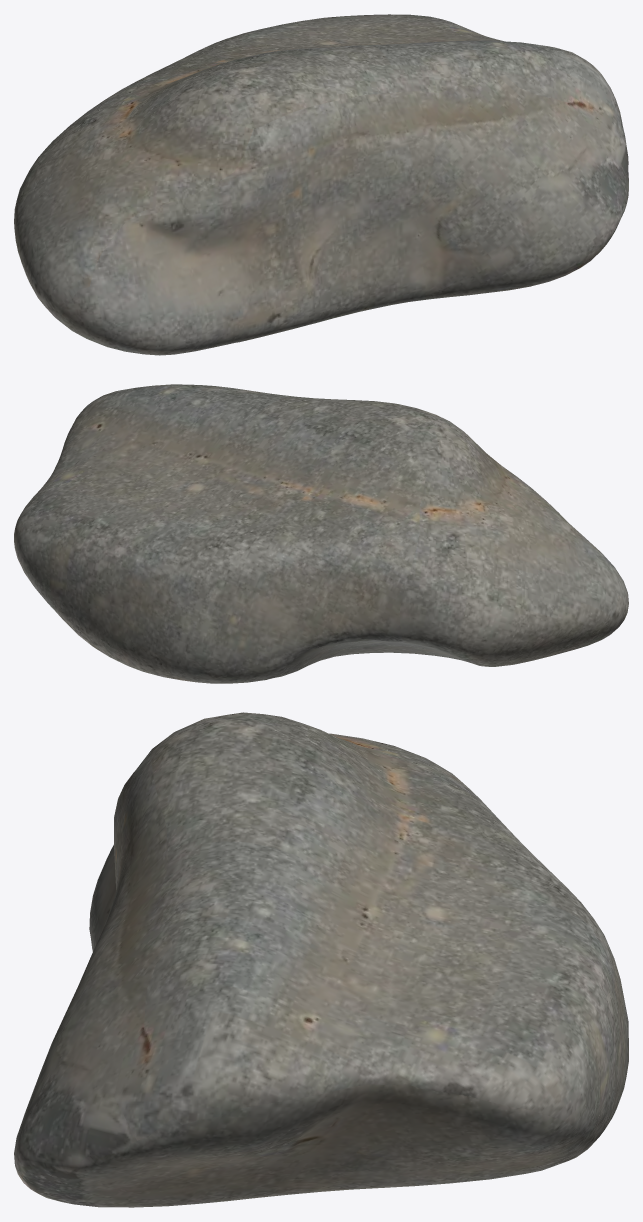
The picture shows the model from 3 angles, top to bottom: view 1: azimuth 30°, elevation 25°; view 2: azimuth 150°, elevation 25°; view 3: azimuth 270°, elevation 25°; orthographic projection. The views are drawn at different scales.
Parts seen in each view (by area): view 1: SM_Stone_01_LOD0; view 2: SM_Stone_01_LOD0; view 3: SM_Stone_01_LOD0.
Boxes of the visible parts, x1,y1,x2,y2 form: SM_Stone_01_LOD0: (14, 14, 628, 355); SM_Stone_01_LOD0: (14, 384, 628, 683); SM_Stone_01_LOD0: (14, 712, 628, 1207).
Bounding box in the file's own units: 0.4691 × 0.1837 × 0.3153.
Materials: 1 (1 with a texture image).
